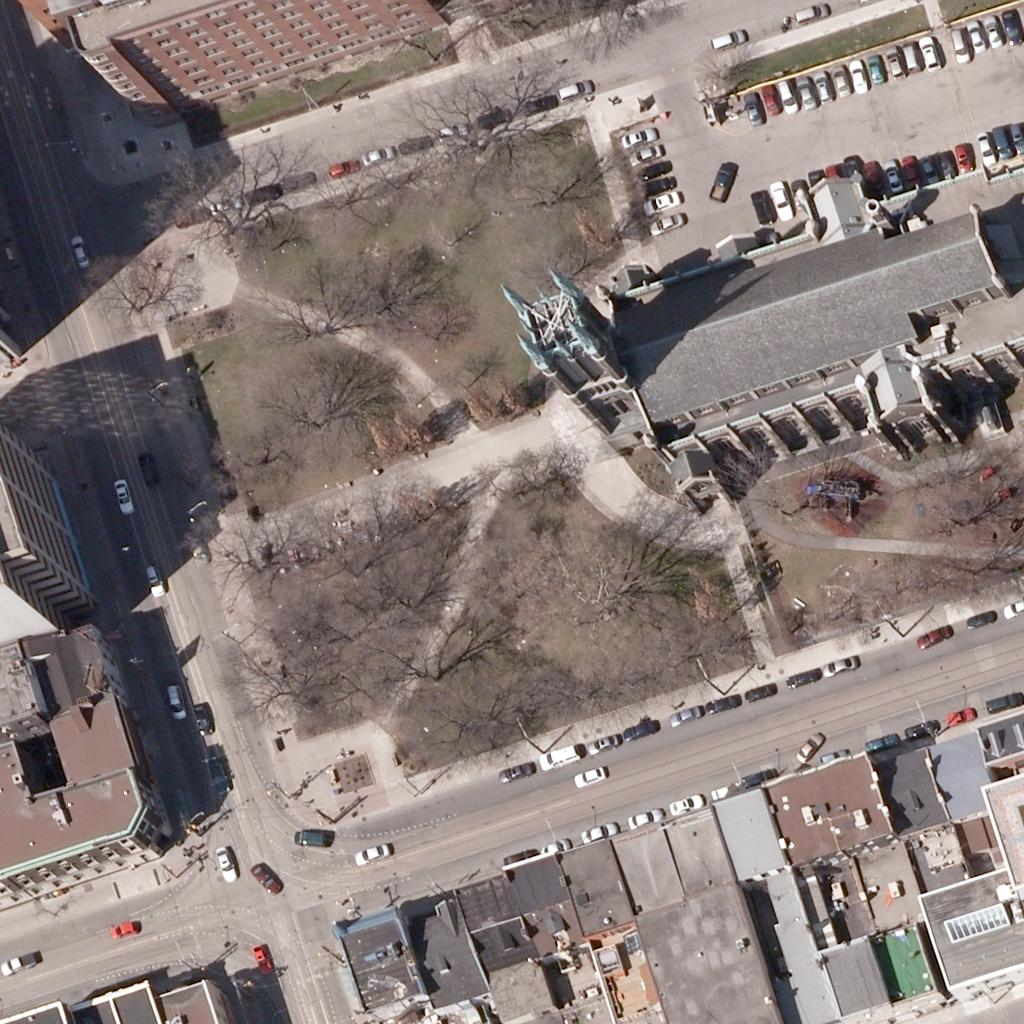car: (974, 12, 1008, 46), (955, 15, 989, 49), (708, 21, 742, 55), (940, 27, 974, 61), (890, 33, 924, 67), (910, 35, 944, 69), (875, 44, 909, 78), (856, 52, 890, 86), (839, 57, 873, 91), (822, 63, 856, 97), (804, 69, 838, 103), (555, 73, 589, 107), (785, 73, 819, 107), (770, 78, 804, 112), (751, 81, 785, 115), (516, 86, 550, 120), (734, 91, 768, 125), (475, 100, 509, 134), (429, 114, 463, 148), (617, 118, 651, 152), (981, 124, 1015, 158), (397, 125, 431, 159), (967, 128, 1001, 162), (628, 135, 662, 169), (357, 137, 391, 171), (944, 139, 978, 173), (926, 145, 960, 179), (832, 149, 866, 183), (635, 150, 669, 184), (910, 150, 944, 184), (323, 151, 357, 185), (893, 153, 927, 187), (816, 156, 850, 190), (856, 157, 890, 191), (872, 157, 906, 191), (703, 158, 737, 192), (281, 162, 315, 196), (797, 162, 831, 196), (641, 165, 675, 199), (780, 169, 814, 203), (244, 175, 278, 209), (761, 182, 795, 216), (640, 184, 674, 218), (208, 186, 242, 220), (741, 186, 775, 220), (170, 198, 204, 232), (646, 207, 680, 241), (62, 234, 96, 268), (131, 452, 165, 486), (104, 476, 138, 510), (178, 529, 212, 563), (134, 557, 168, 591), (964, 599, 998, 633), (917, 617, 951, 651), (819, 648, 853, 682), (784, 659, 818, 693), (742, 675, 776, 709), (985, 682, 1019, 716), (156, 683, 190, 717), (704, 685, 738, 719), (667, 695, 701, 729), (940, 698, 974, 732), (182, 702, 216, 736), (908, 710, 942, 744), (617, 712, 651, 746), (583, 725, 617, 759), (861, 725, 895, 759), (788, 729, 822, 763), (537, 737, 571, 771), (812, 741, 846, 775), (497, 751, 531, 785), (199, 754, 233, 788), (571, 758, 605, 792), (738, 760, 772, 794), (665, 788, 699, 822), (628, 799, 662, 833), (581, 814, 615, 848), (289, 820, 323, 854), (538, 829, 572, 863), (353, 836, 387, 870), (501, 841, 535, 875), (207, 847, 241, 881), (244, 860, 278, 894), (104, 911, 138, 945), (242, 939, 276, 973), (992, 7, 1024, 41), (0, 946, 32, 980), (792, 0, 826, 29), (998, 118, 1024, 152), (1002, 588, 1024, 622)
